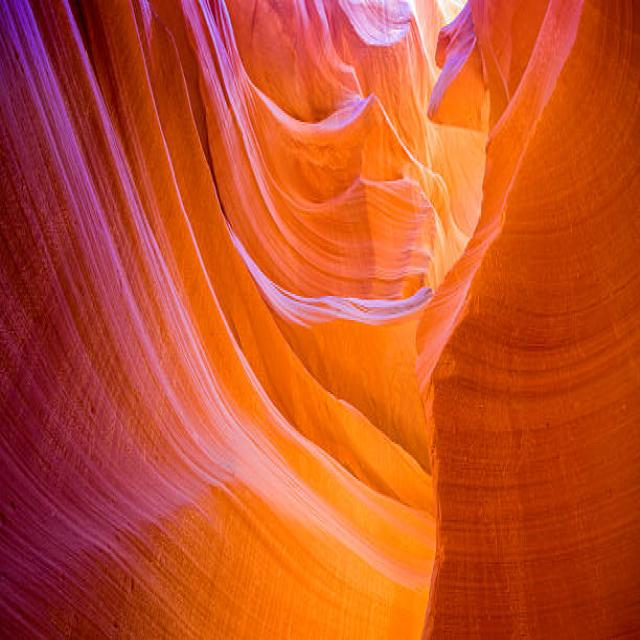Sedimentary: (1, 2, 640, 636)
